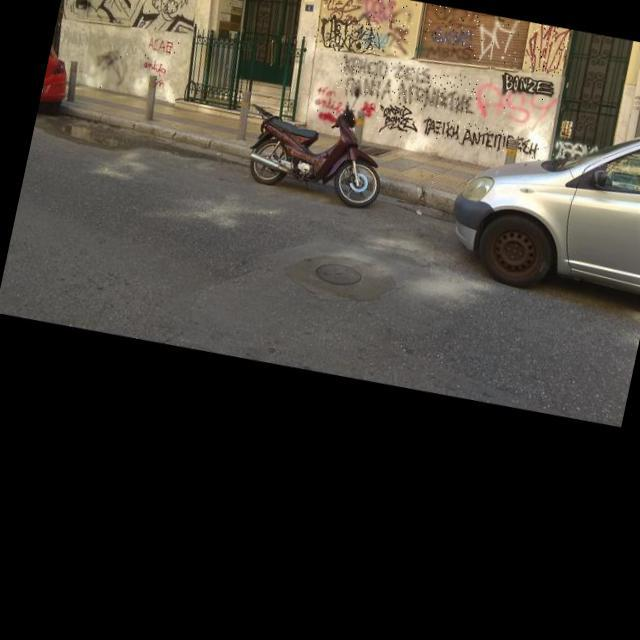-: (334, 52, 478, 119), (420, 115, 540, 165), (471, 85, 555, 133), (470, 15, 524, 83), (312, 12, 384, 62), (308, 86, 378, 135), (427, 5, 512, 38), (523, 25, 570, 82), (80, 44, 132, 94), (384, 0, 418, 70), (138, 38, 178, 96), (372, 102, 422, 144), (550, 139, 606, 172), (422, 19, 476, 52), (420, 43, 482, 70), (357, 0, 399, 29), (145, 0, 191, 26), (315, 0, 366, 21)
